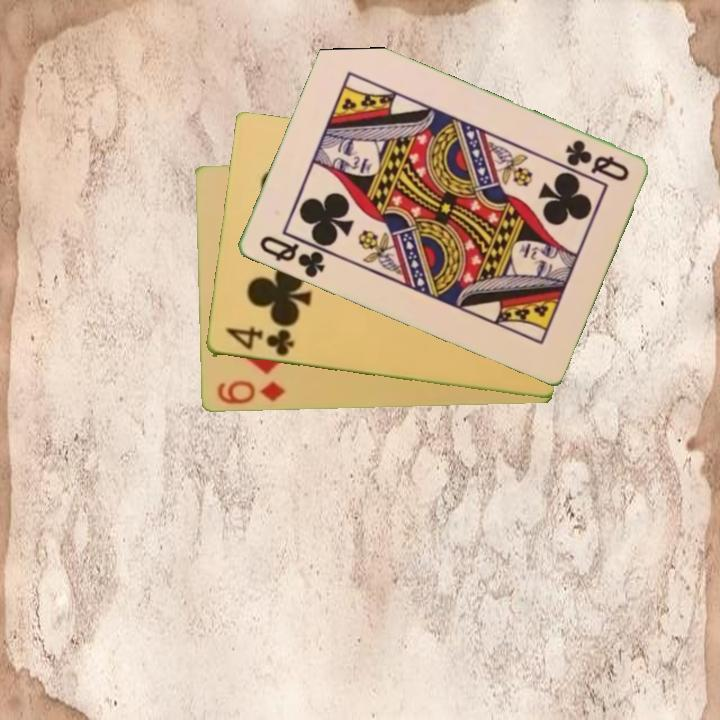4c: (221, 324, 296, 360)
6d: (213, 377, 288, 408)
Qc: (255, 232, 328, 281), (561, 136, 632, 185)
